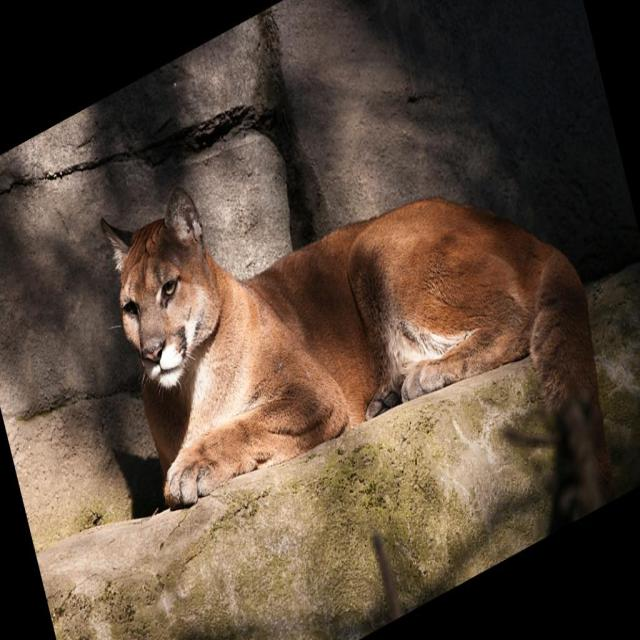Lion: (84, 0, 633, 639)
